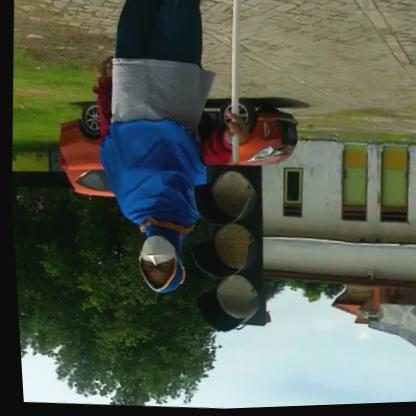yellow: (184, 165, 272, 331)
